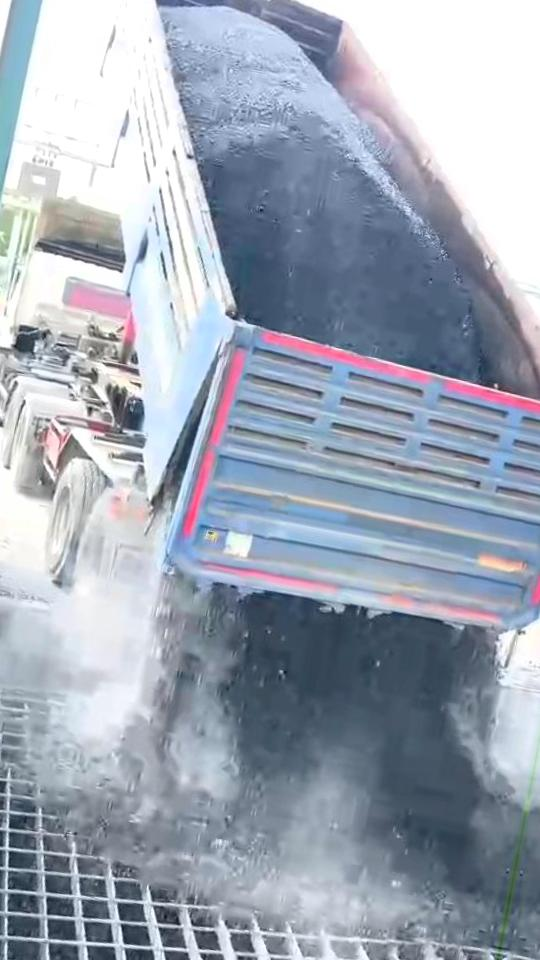gravel: (88, 594, 521, 937), (161, 8, 479, 380)
